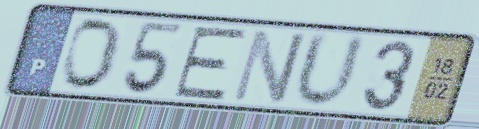3: (357, 38, 417, 114)
5: (119, 18, 185, 97)
E: (169, 25, 252, 103)
N: (227, 26, 311, 106)
O: (59, 16, 127, 93)
U: (290, 28, 371, 112)
